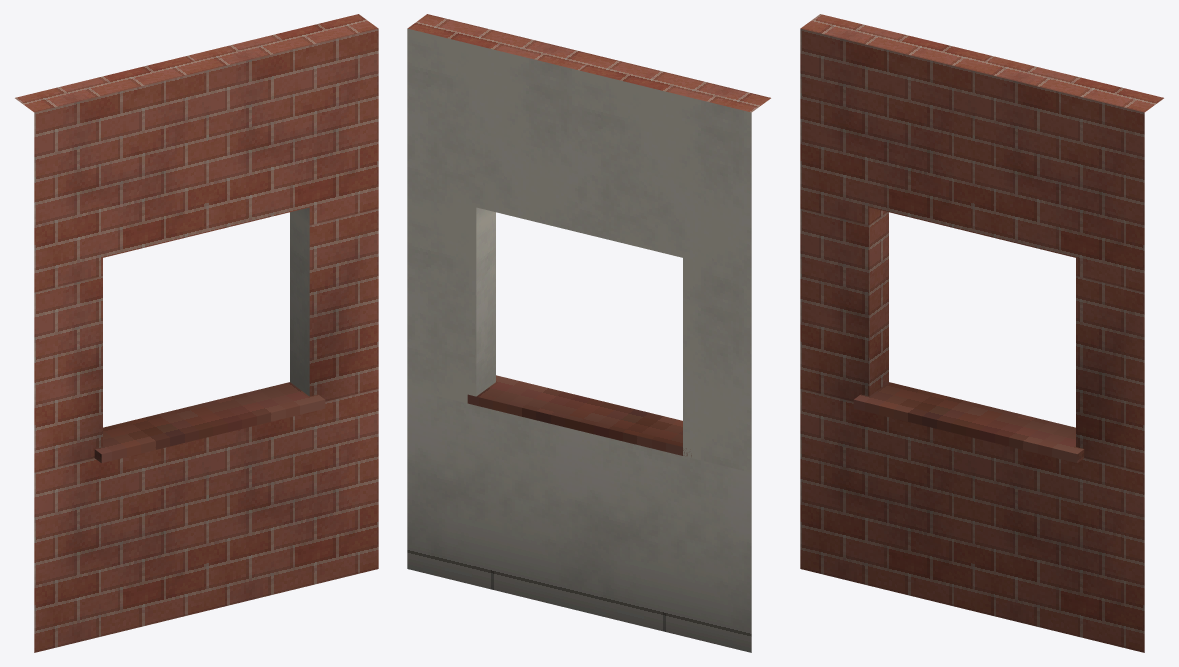
The model's file is wall_window_brick.glb.
3 views of the same model, side by side, from view 1: azimuth 30°, elevation 25°; view 2: azimuth 150°, elevation 25°; view 3: azimuth 330°, elevation 25° (orthographic).
Parts seen in each view (by area): view 1: wall_window_brick; view 2: wall_window_brick; view 3: wall_window_brick.
Part boxes in pixels (x1,y1,x2,y2): wall_window_brick: (15, 14, 378, 652); wall_window_brick: (407, 14, 770, 652); wall_window_brick: (800, 14, 1163, 652).
Size of the model in its own units: 2 by 3 by 0.27.
4 materials, 4 textured.
